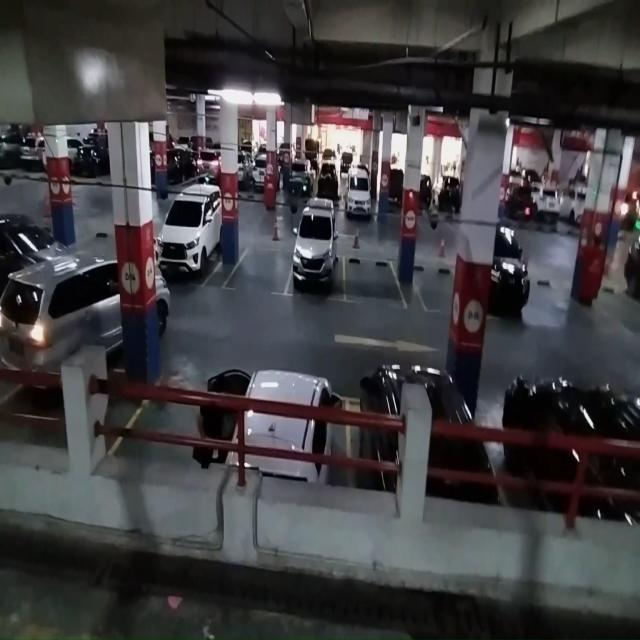empty: (224, 235, 290, 297), (342, 250, 403, 308)
occupied: (152, 195, 222, 290), (290, 218, 345, 300)
